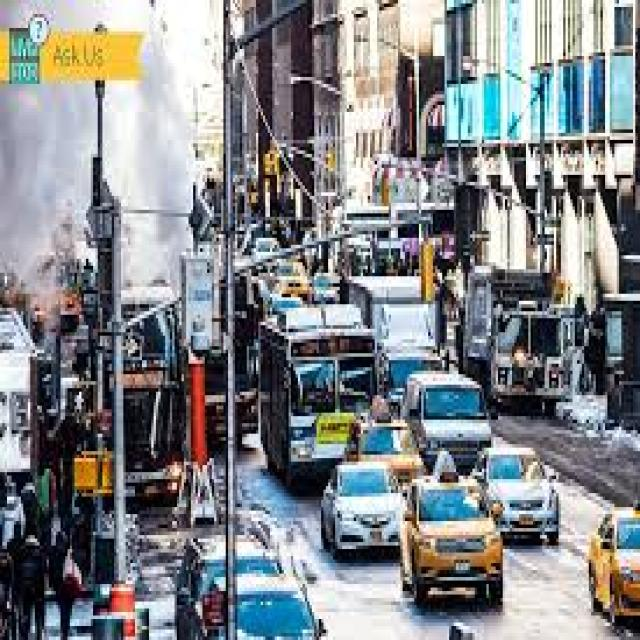bus: (261, 308, 372, 486)
car: (400, 479, 500, 605), (477, 448, 556, 546), (323, 462, 398, 556), (589, 507, 638, 626), (240, 577, 314, 640), (358, 423, 421, 486)
van: (177, 535, 277, 640), (405, 374, 489, 472)
